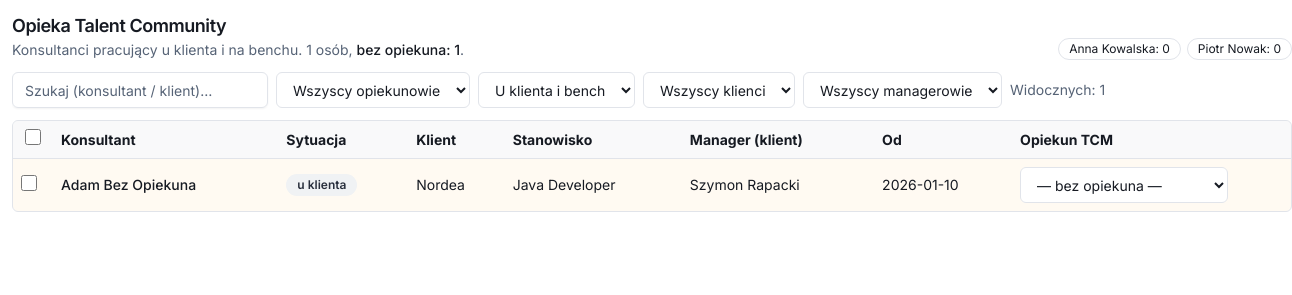
OpiekaPanel — masowe przypisanie › przycisk przypisania jest nieaktywny, dopóki nie wskazano opiekuna
The width and height of the screenshot is (1292, 295).
Click the checkbox named "Zaznacz Adam Bez Opiekuna" at (29, 182), box x1=21 y1=174 x2=37 y2=190
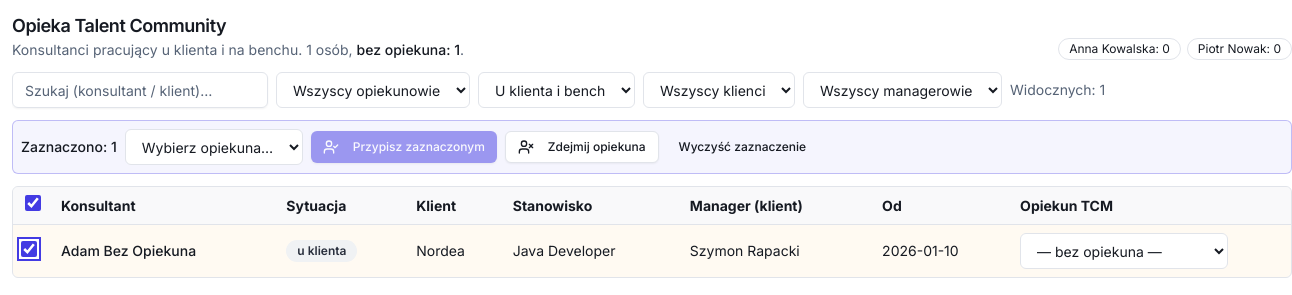
Check: the button "Przypisz zaznaczonym" is disabled, box x1=311 y1=131 x2=497 y2=163
